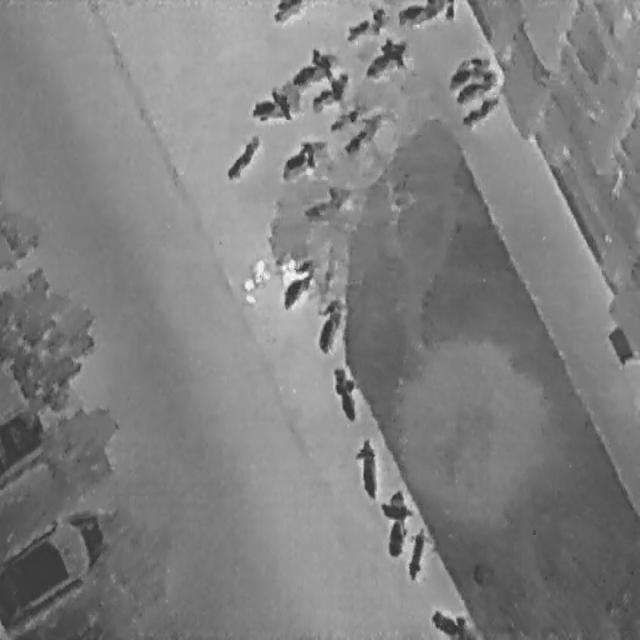Bicycle: (273, 127, 332, 185), (356, 28, 413, 88), (284, 35, 340, 96), (373, 481, 415, 559), (337, 104, 391, 162), (307, 286, 348, 359), (220, 125, 268, 185), (324, 354, 364, 425), (448, 60, 503, 111), (304, 62, 354, 118), (456, 84, 507, 135), (297, 179, 353, 225), (442, 42, 493, 90), (278, 254, 317, 314), (340, 4, 388, 50), (400, 518, 433, 584), (351, 431, 381, 500), (325, 95, 367, 139), (248, 85, 292, 123), (396, 0, 457, 26), (428, 608, 474, 636), (271, 0, 306, 24)
Car: (0, 508, 106, 636), (0, 408, 70, 488)
Person: (278, 255, 300, 304), (252, 259, 269, 285)
